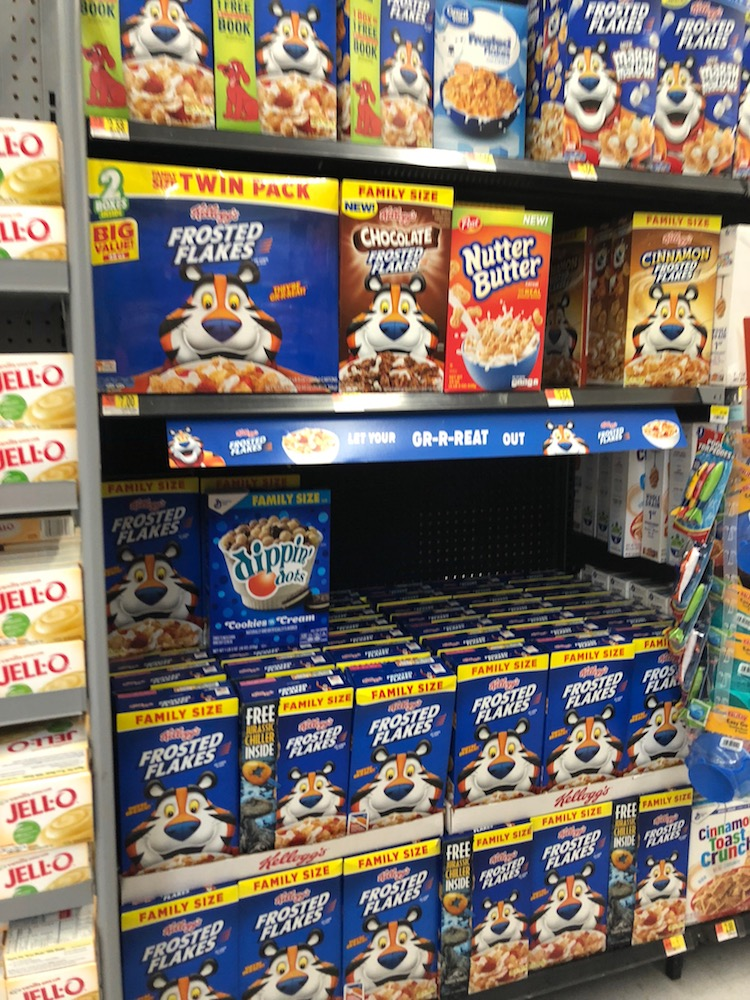Dippin Dots Cookies & Cream -568929378: (203, 473, 335, 648)
Nutter Butter-565717511: (448, 196, 556, 394)
